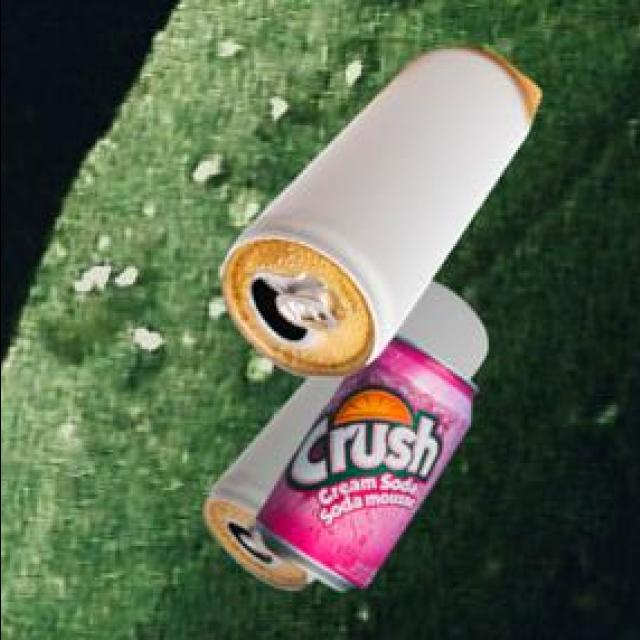logam: (225, 44, 543, 375), (207, 279, 491, 585), (258, 330, 480, 587)
